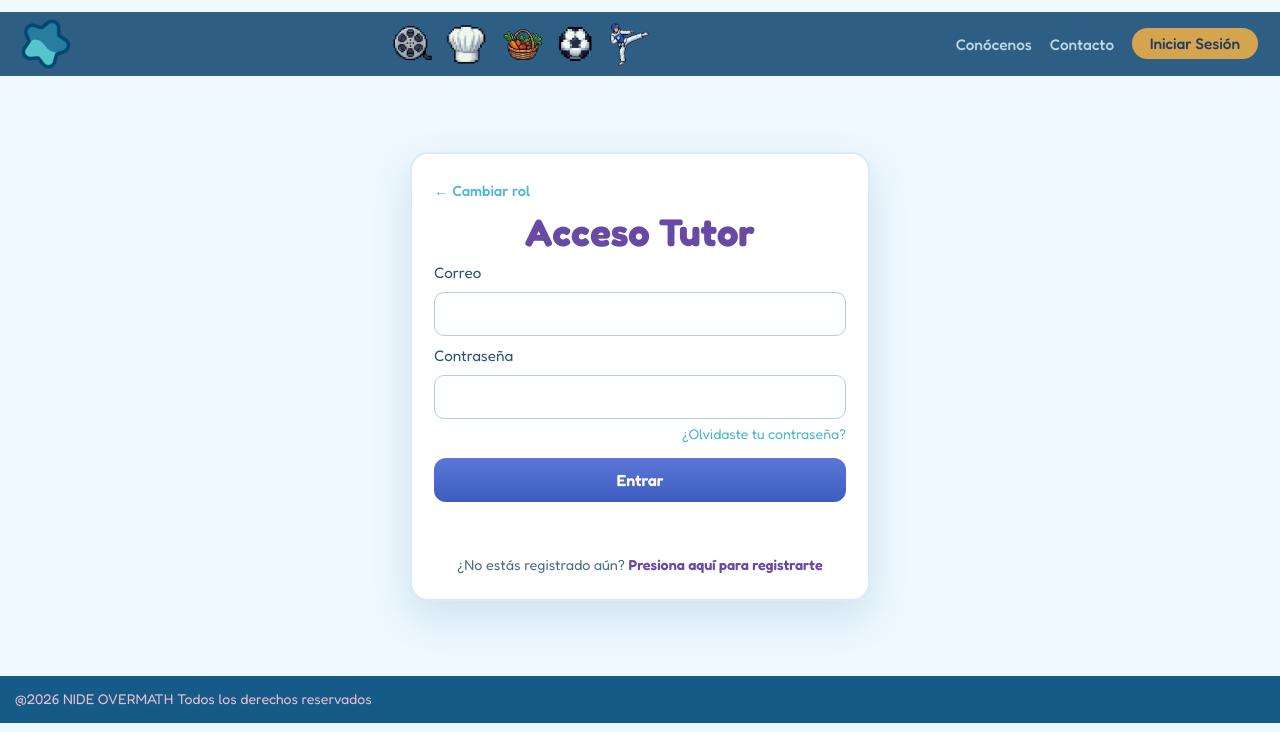
Scenario: LoginPage › muestra error si se envía con campos vacíos
Step 1. Click the button "Entrar" → x=640, y=480, box [434,458,846,502]
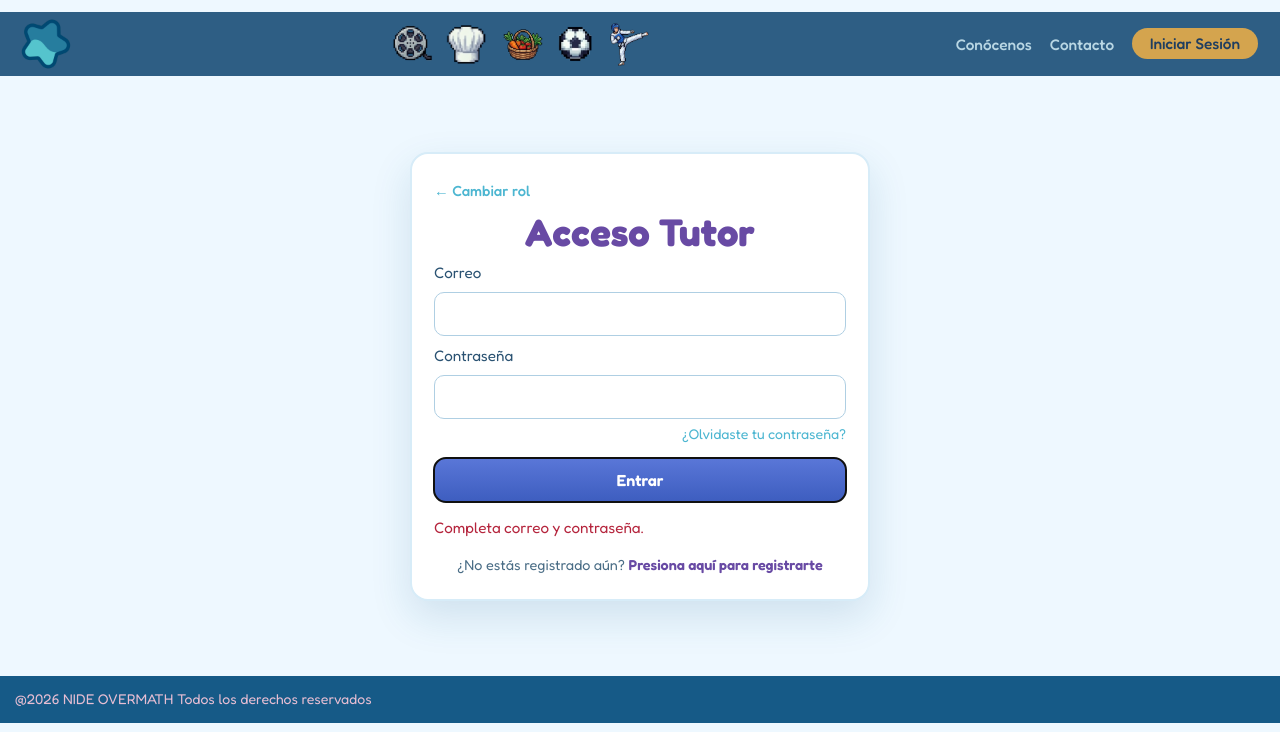
expect the message reads "Completa correo y contraseña.": met, box [434,518,644,536]
